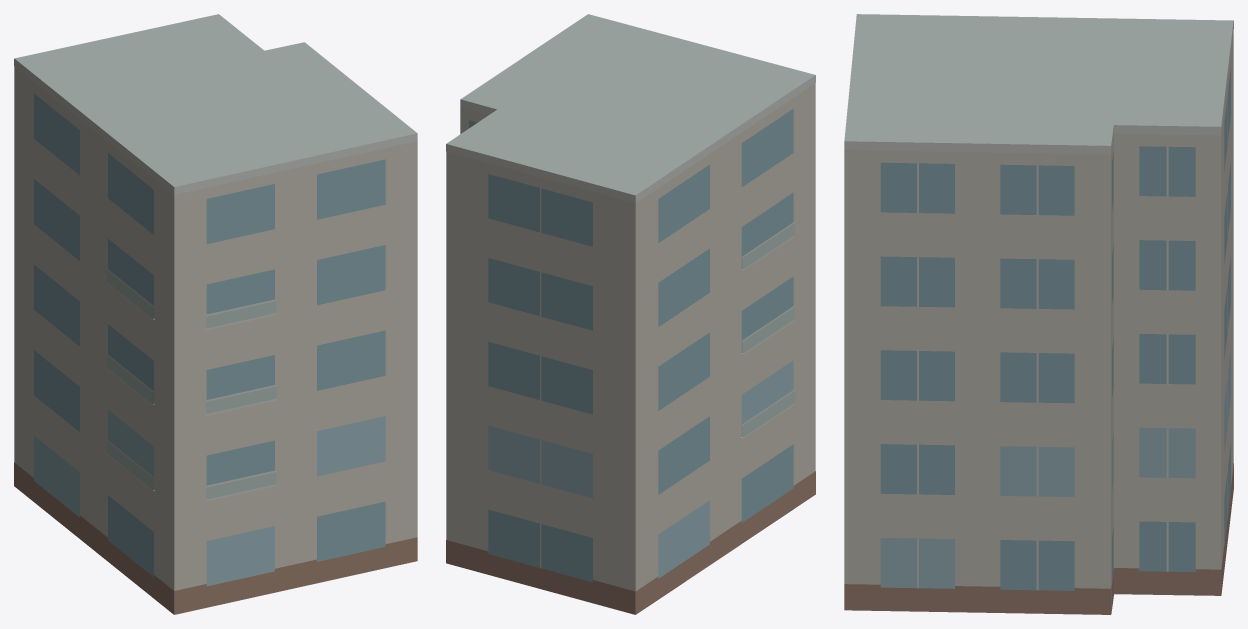
The model's file is survey-upis-32760926.glb.
The picture shows the model from 3 angles, left to right: view 1: azimuth 30°, elevation 25°; view 2: azimuth 150°, elevation 25°; view 3: azimuth 270°, elevation 25°; orthographic projection. The views are drawn at different scales.
Visible parts, largest first — view 1: survey-upis-32760926.tmp; view 2: survey-upis-32760926.tmp; view 3: survey-upis-32760926.tmp.
Boxes of the visible parts, left/top/right/bottom form: survey-upis-32760926.tmp: left=14, top=14, right=417, bottom=614; survey-upis-32760926.tmp: left=446, top=14, right=815, bottom=614; survey-upis-32760926.tmp: left=844, top=14, right=1233, bottom=614.
Size of the model in its own units: 7.97 by 13.2 by 9.94.
